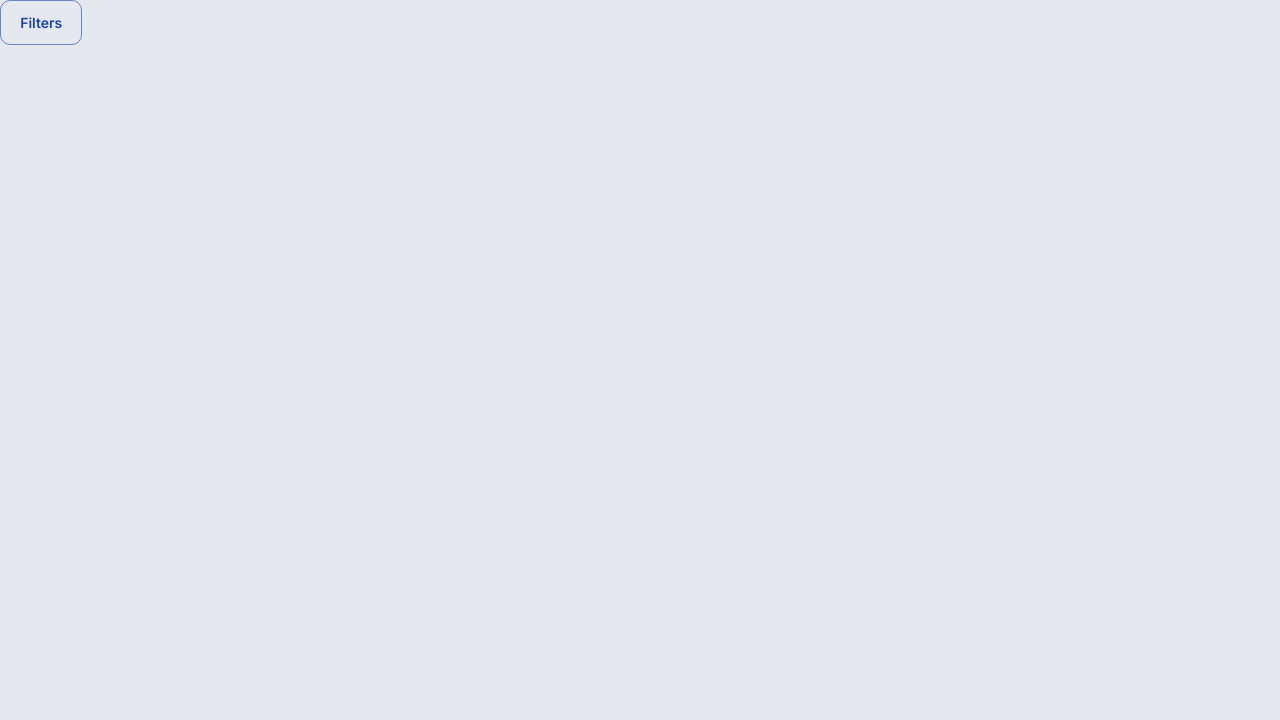
it: discovery controls › rejects malformed amounts without sending a request
Click the button "Filters" at (41, 23), box 0,0 -> 82,45
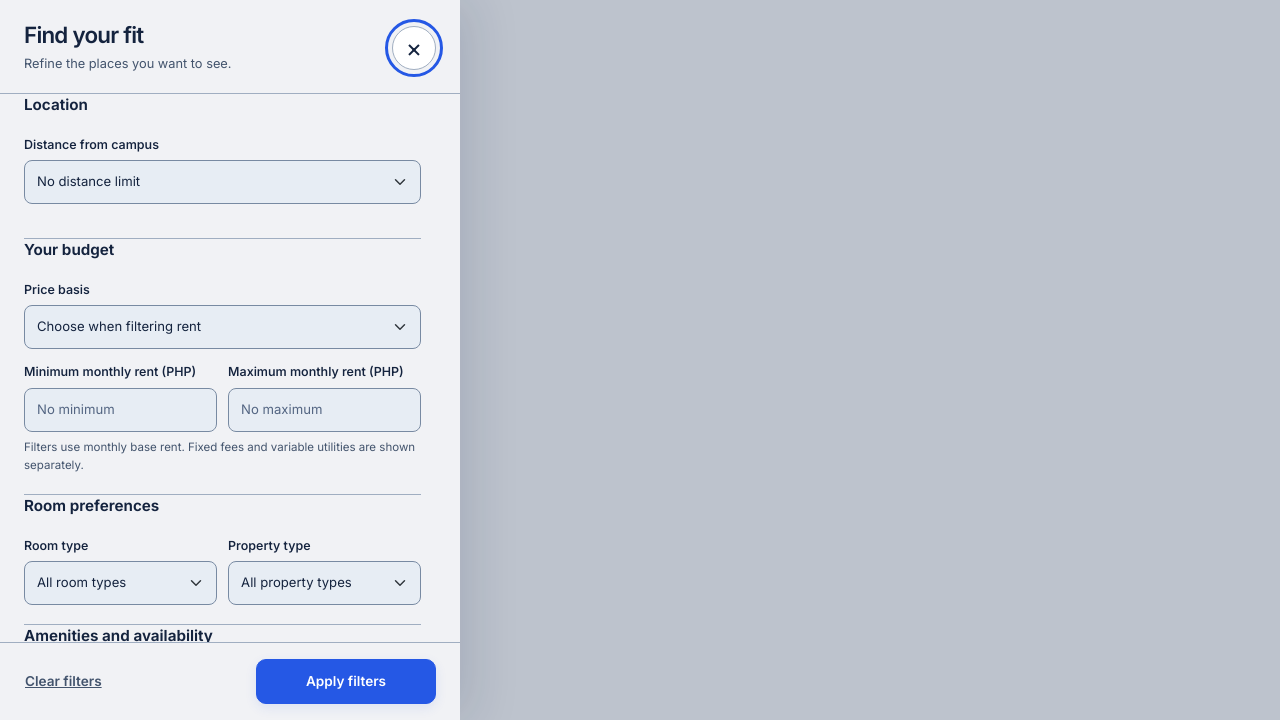
Type "1e3" into the field labelled "Minimum monthly rent (PHP)" at (120, 410), box 24,388 -> 217,432
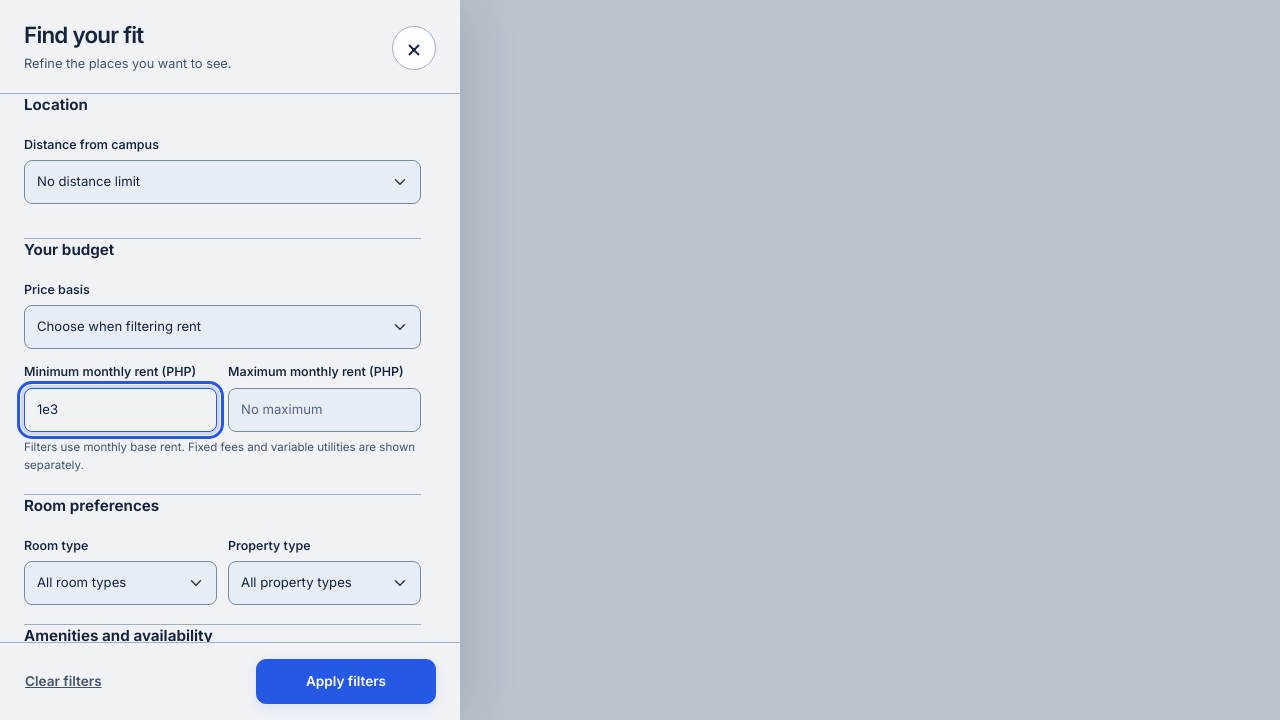
Click the button "Apply filters" at (346, 682), box 256,659 -> 436,704
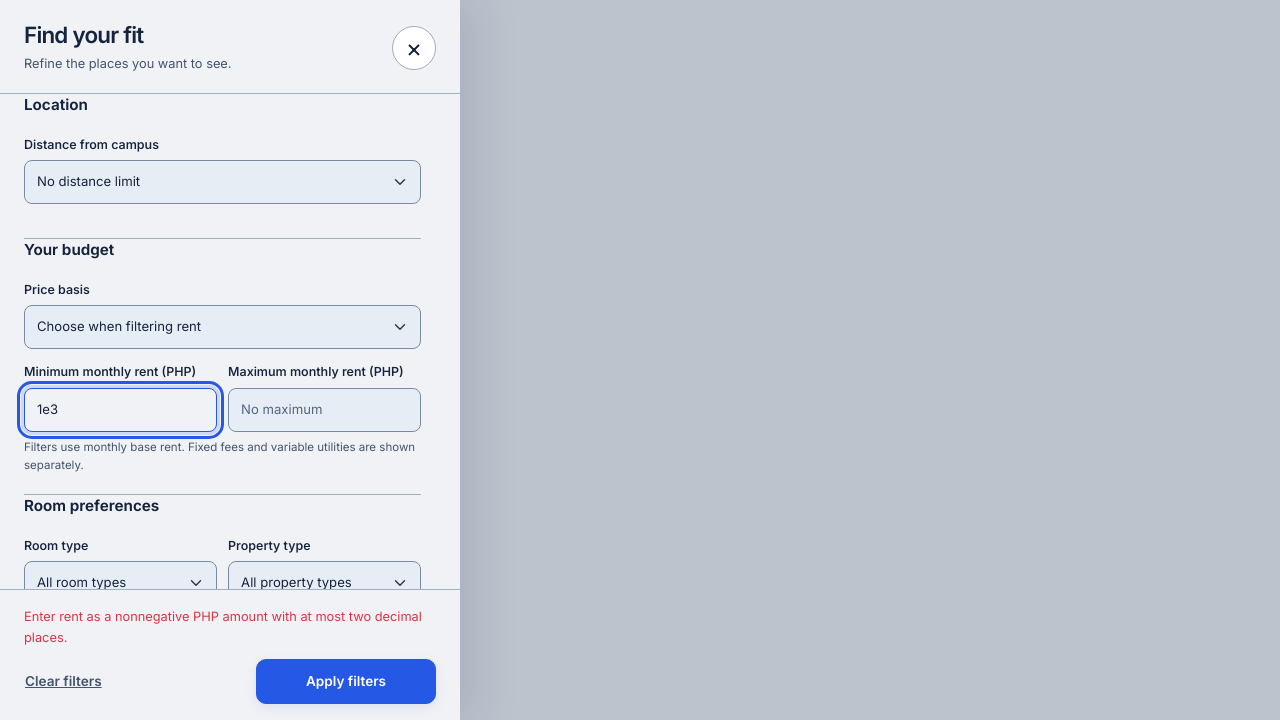
Expected: the message shows "at most two decimal places", 24,609 -> 422,645
